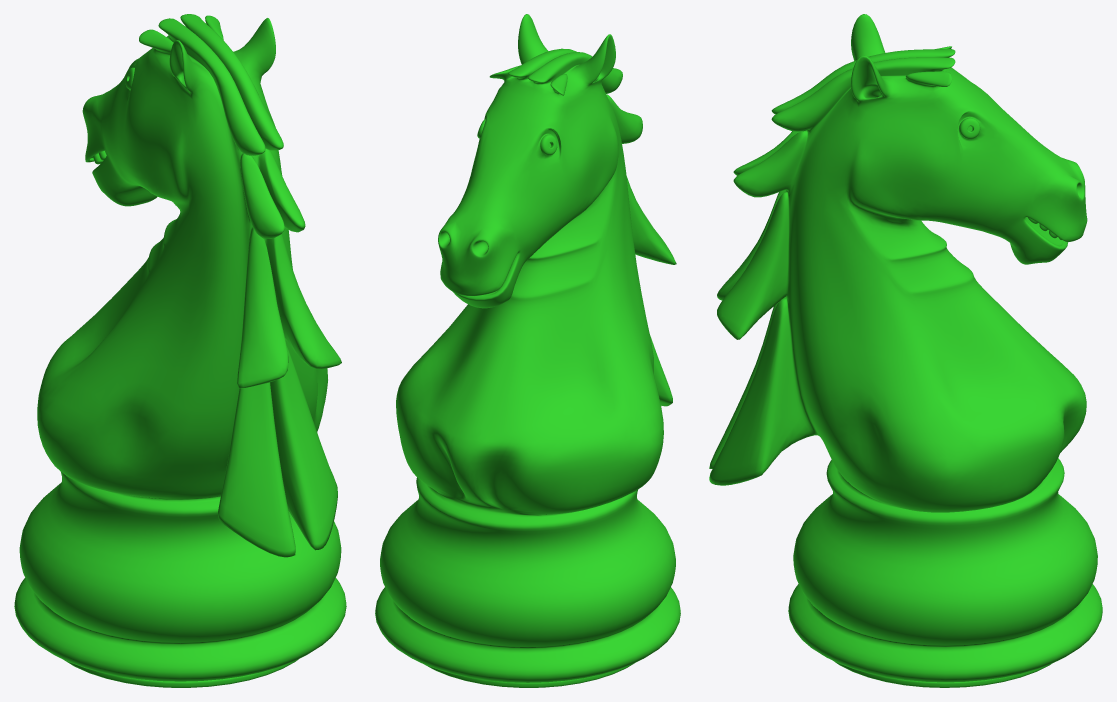
Rendered from greenhorse.fbx.
3 renders of one model, left to right at view 1: azimuth 30°, elevation 25°; view 2: azimuth 150°, elevation 25°; view 3: azimuth 270°, elevation 25°, orthographic. The views are drawn at different scales.
Visible parts, largest first — view 1: Mesh.004; view 2: Mesh.004; view 3: Mesh.004.
Part boxes in pixels (x1,y1,x2,y2): Mesh.004: [14, 14, 346, 687]; Mesh.004: [375, 14, 680, 687]; Mesh.004: [709, 14, 1102, 687].
Size of the model in its own units: 172 by 362 by 216.
